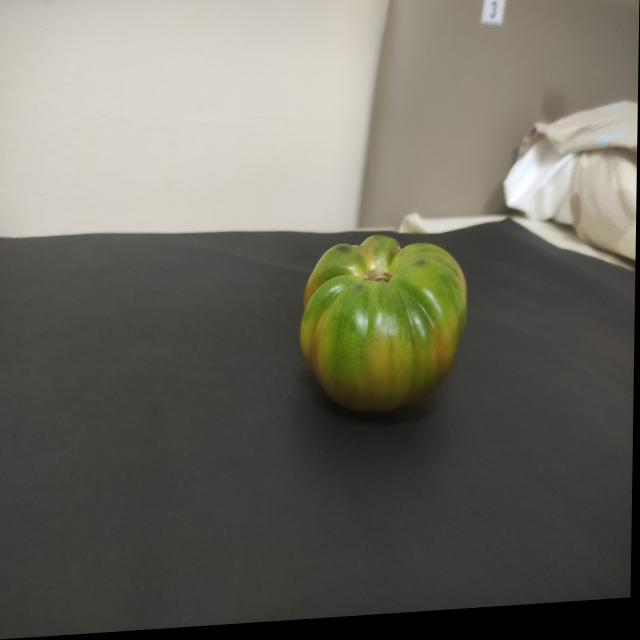yesil: (280, 205, 480, 439)
